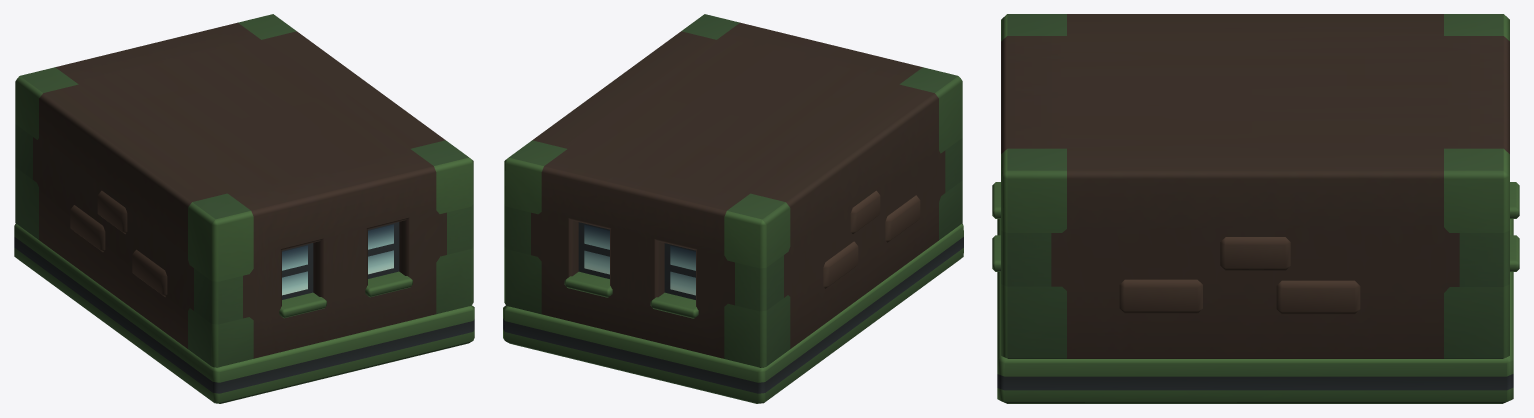
File: appartment_type1_x3_element_brown.fbx
3 renders of one model, left to right at view 1: azimuth 30°, elevation 25°; view 2: azimuth 150°, elevation 25°; view 3: azimuth 270°, elevation 25°, orthographic. The views are drawn at different scales.
Visible parts, largest first — view 1: appartment_type1_x3_element_brown; view 2: appartment_type1_x3_element_brown; view 3: appartment_type1_x3_element_brown.
Boxes of the visible parts, x1,y1,x2,y2 form: appartment_type1_x3_element_brown: [14, 14, 474, 403]; appartment_type1_x3_element_brown: [503, 14, 963, 403]; appartment_type1_x3_element_brown: [992, 14, 1519, 403].
Bounding box in the file's own units: 628 × 409 × 839.
